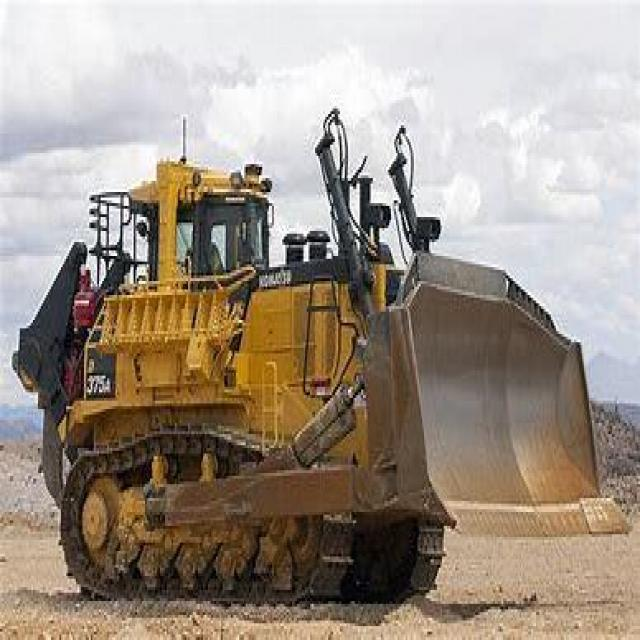Bulldozer: (12, 128, 625, 618)
